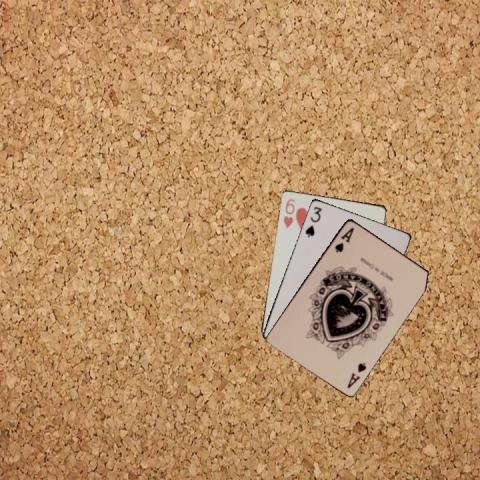3s: (302, 203, 323, 238)
6h: (280, 196, 296, 229)
As: (331, 224, 356, 253), (344, 360, 368, 390)
